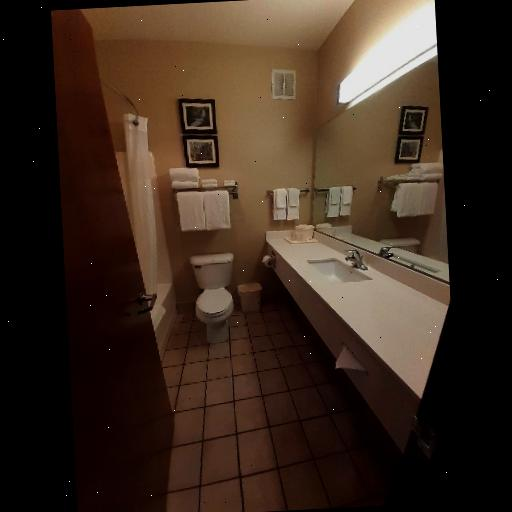clean mirror: (305, 57, 449, 265)
clean_floor: (157, 303, 399, 512)
clean_sink: (260, 224, 450, 452)
clean_toilet: (180, 250, 254, 354)
folded_towel: (178, 188, 232, 232), (390, 180, 443, 222), (382, 162, 444, 186), (268, 186, 304, 225), (165, 164, 204, 196), (204, 177, 236, 188)
